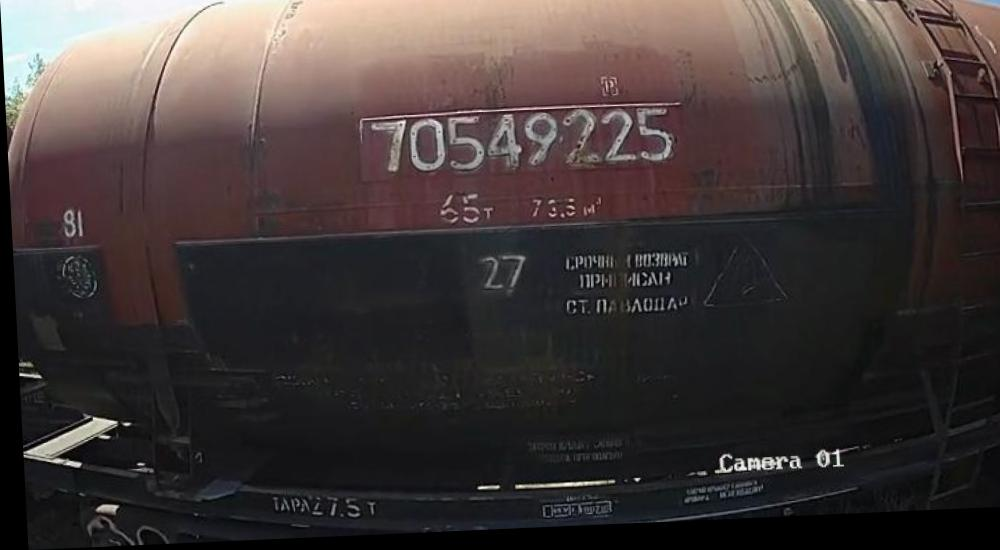Wagon-number: (363, 110, 678, 181)
